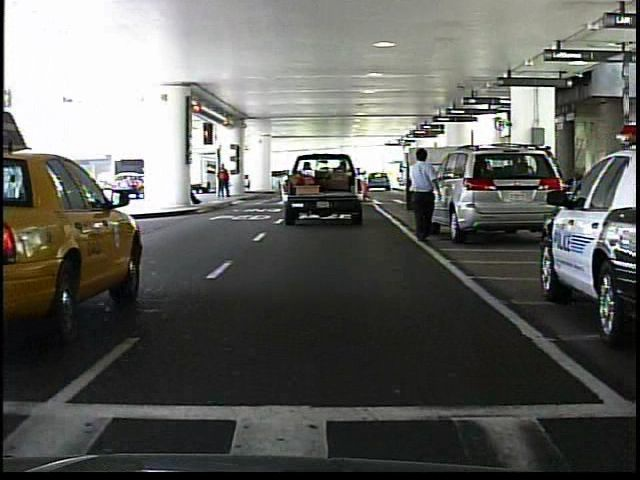person: (402, 145, 446, 242), (215, 163, 235, 202)
